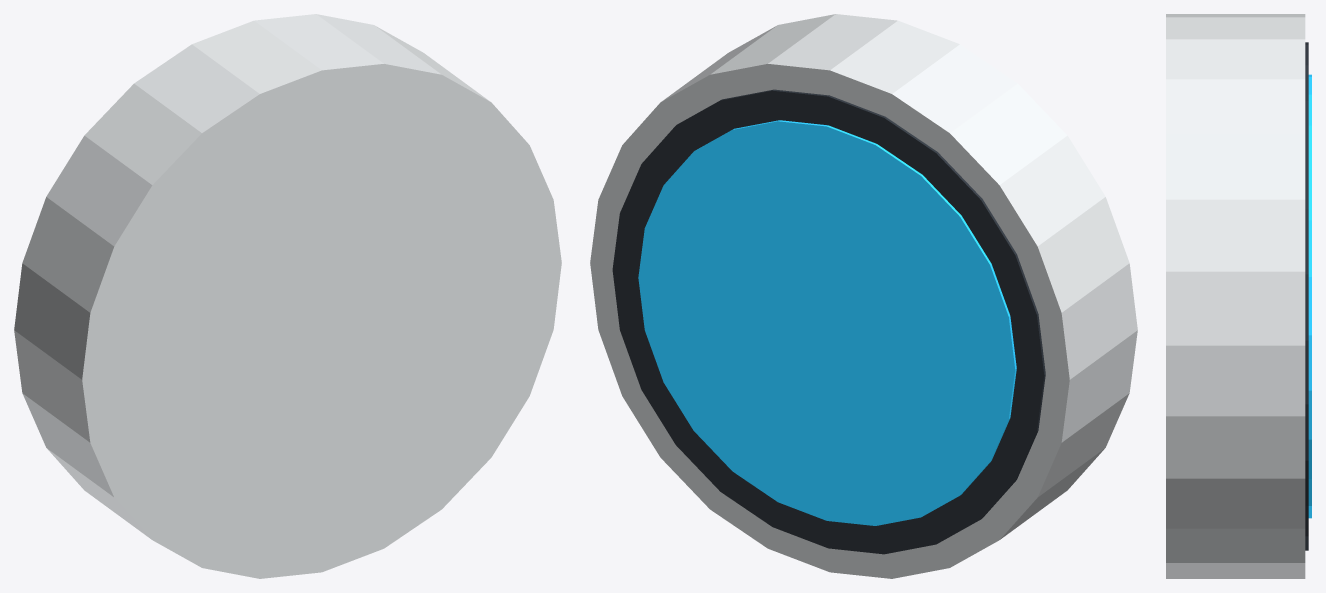
3 views of the same model, side by side, from view 1: azimuth 30°, elevation 25°; view 2: azimuth 150°, elevation 25°; view 3: azimuth 270°, elevation 25° (orthographic). The views are drawn at different scales.
Visible parts, largest first — view 1: any-note/circle-v1; view 2: any-note/circle-v1; view 3: any-note/circle-v1.
Boxes of the visible parts, box(x1,y1,x2,y2) form: any-note/circle-v1: box(14, 14, 561, 578); any-note/circle-v1: box(590, 14, 1137, 578); any-note/circle-v1: box(1166, 14, 1311, 578).
Size of the model in its own units: 0.7 by 0.7 by 0.18.
